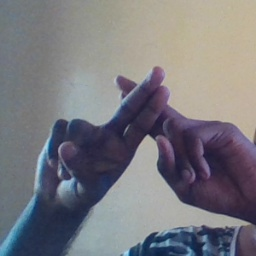F: (76, 59, 218, 171)
